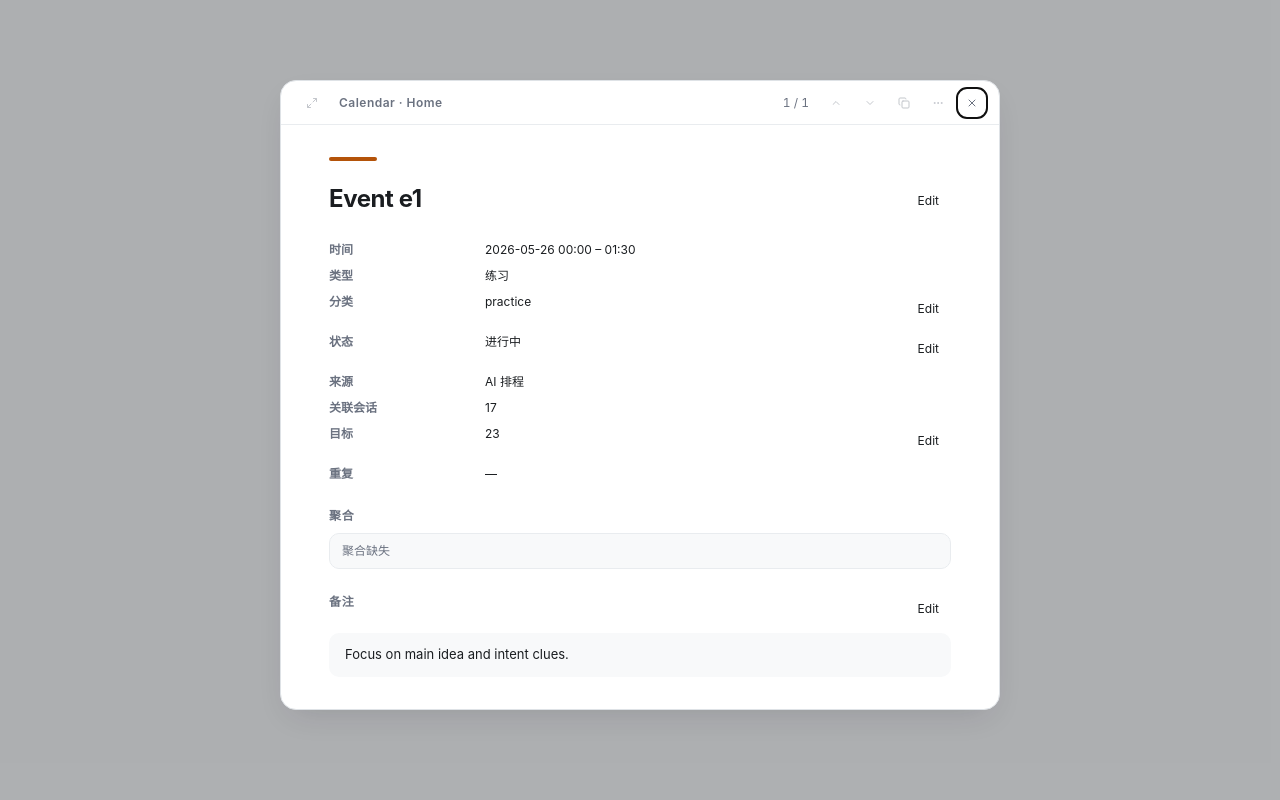
Test: CalendarPeekCard › rolls back status after a failed save and stays in editing state
Click the button titled "edit-status" in the row of "进行中" at point(928, 349), box [906,333,951,365]
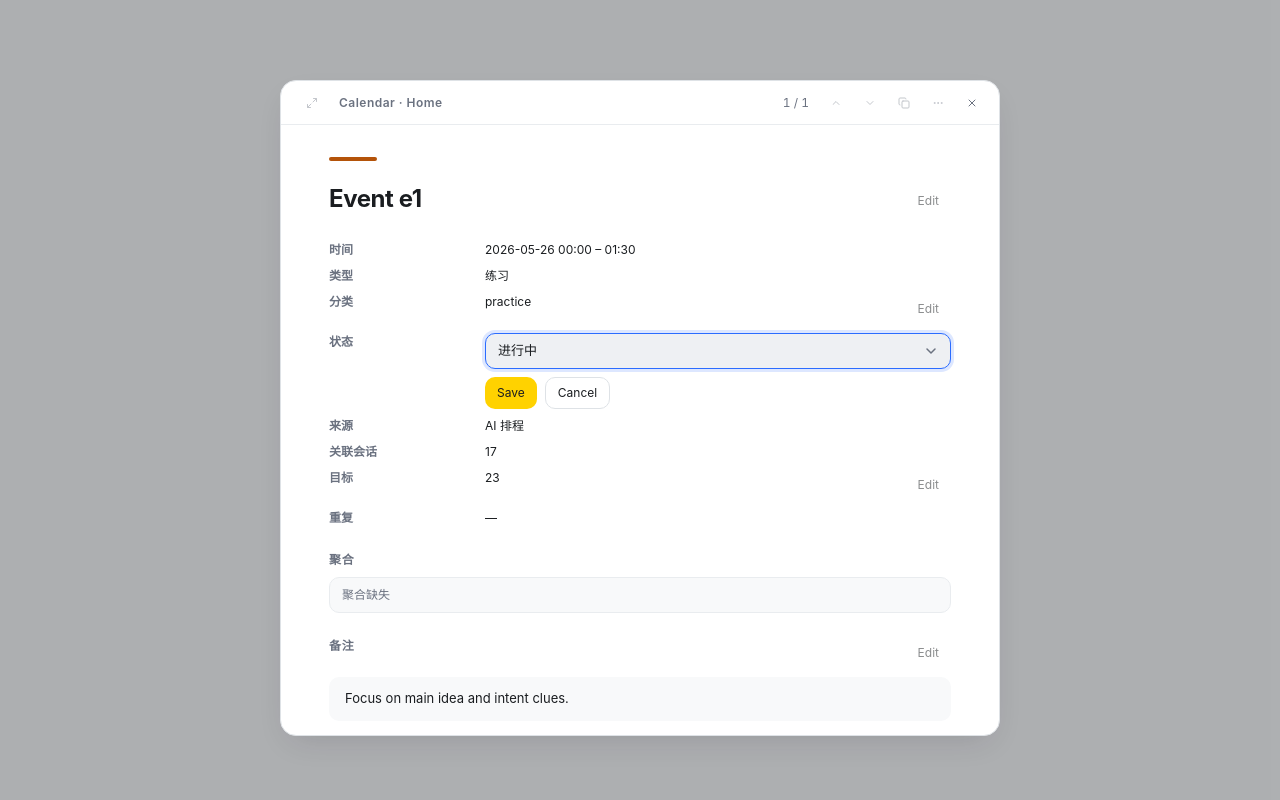
Click the dropdown at point(518, 350), box [485,333,951,369]
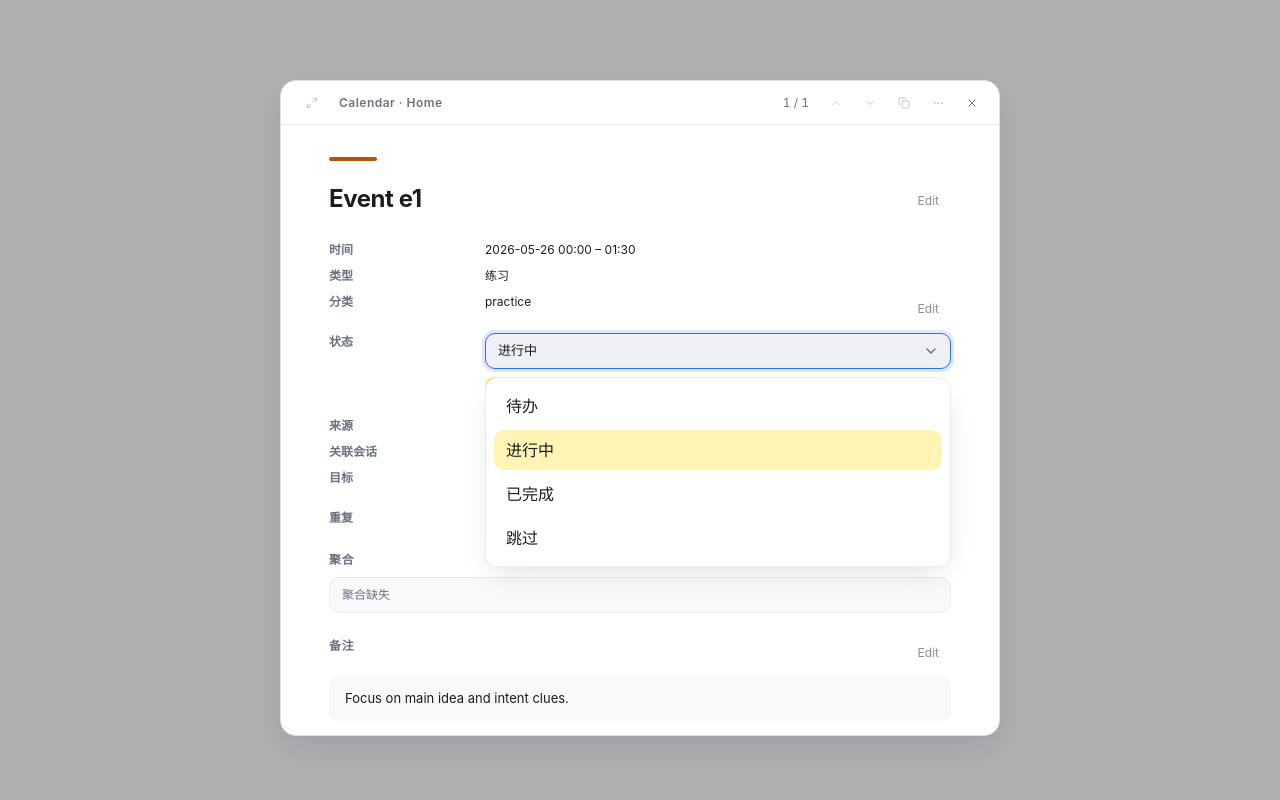
Click the option "已完成" at point(530, 494), box [494,474,942,514]
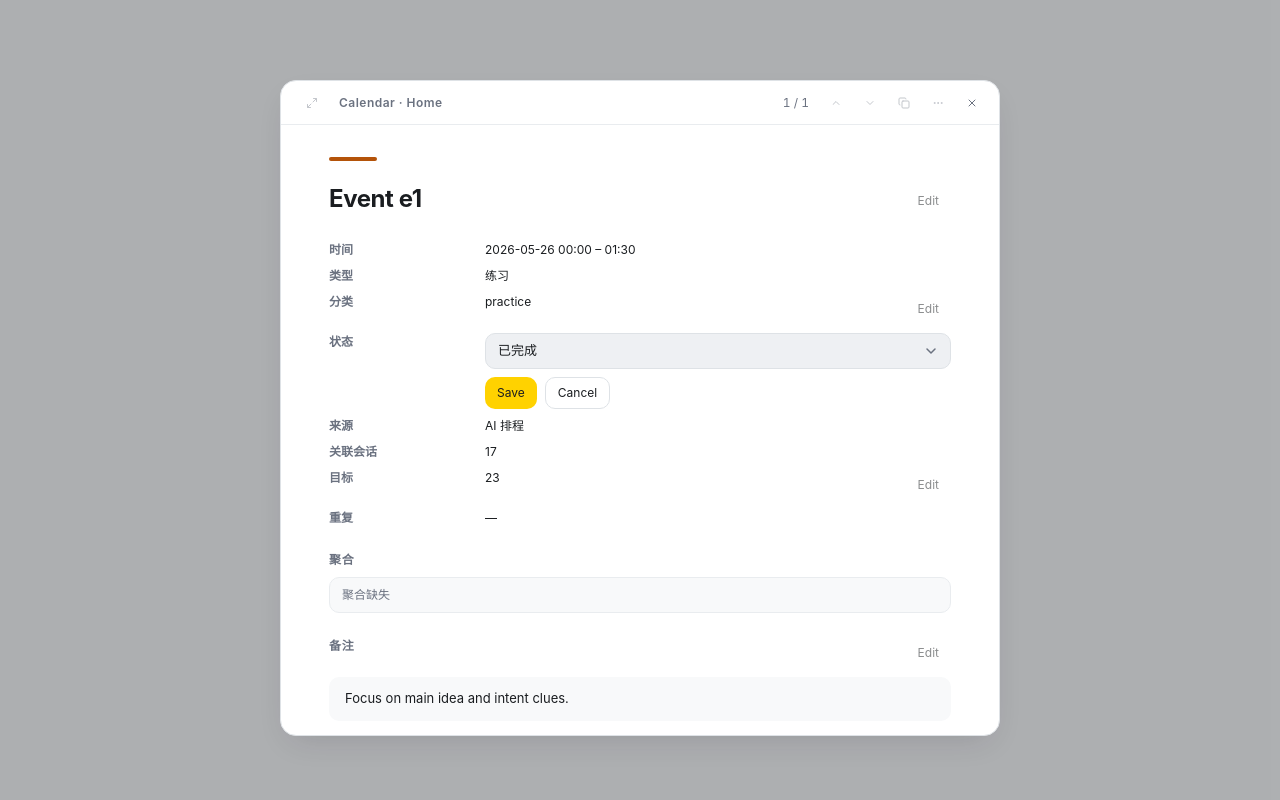
Click the button "Save" at point(511, 393), box [485,377,537,409]
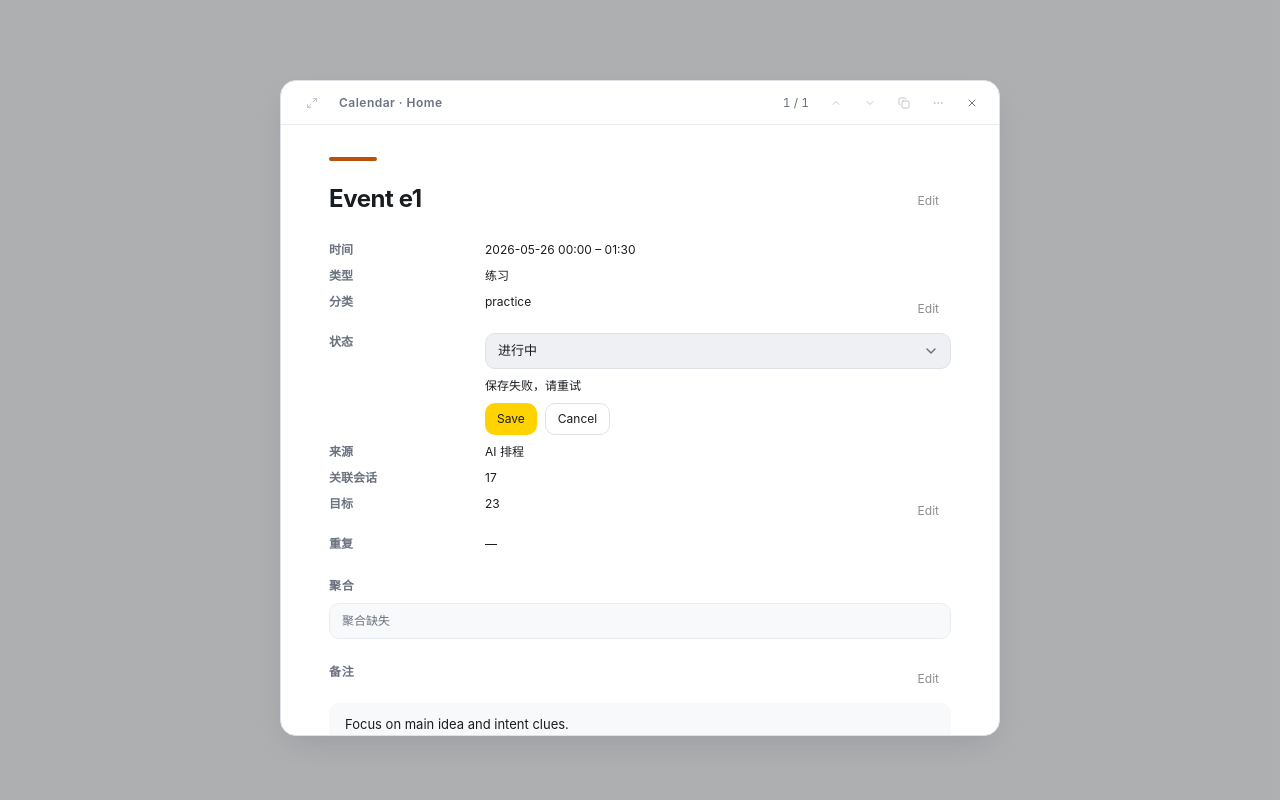
Expected: the element with test id "home-calendar-peek-status-editor" is shown, [485,333,951,435]
Expected: the dropdown reads "进行中", [485,333,951,369]
Expected: the text "保存失败，请重试" is shown, [485,378,581,393]
